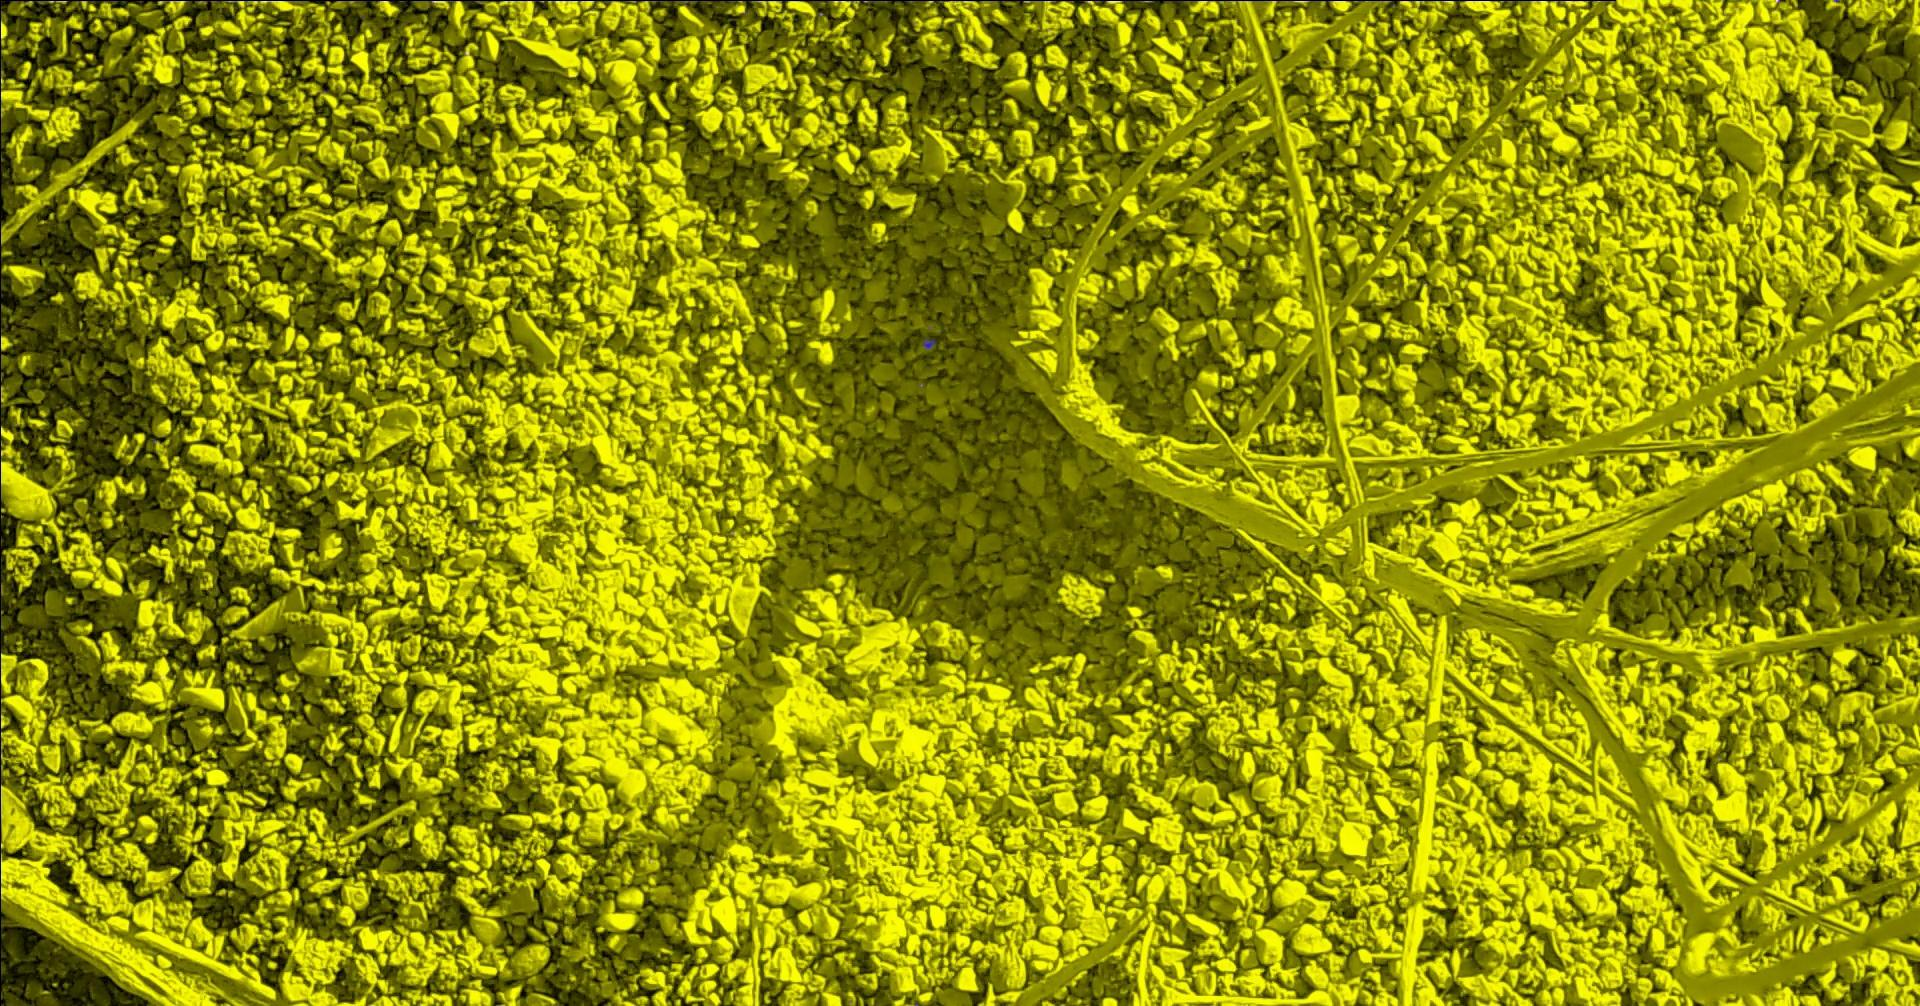ant: (649, 0, 711, 5), (922, 338, 935, 349)
